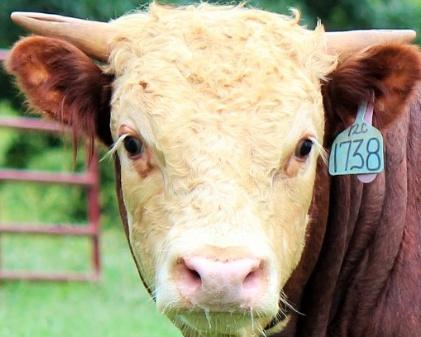muzzles: (152, 242, 291, 336)
